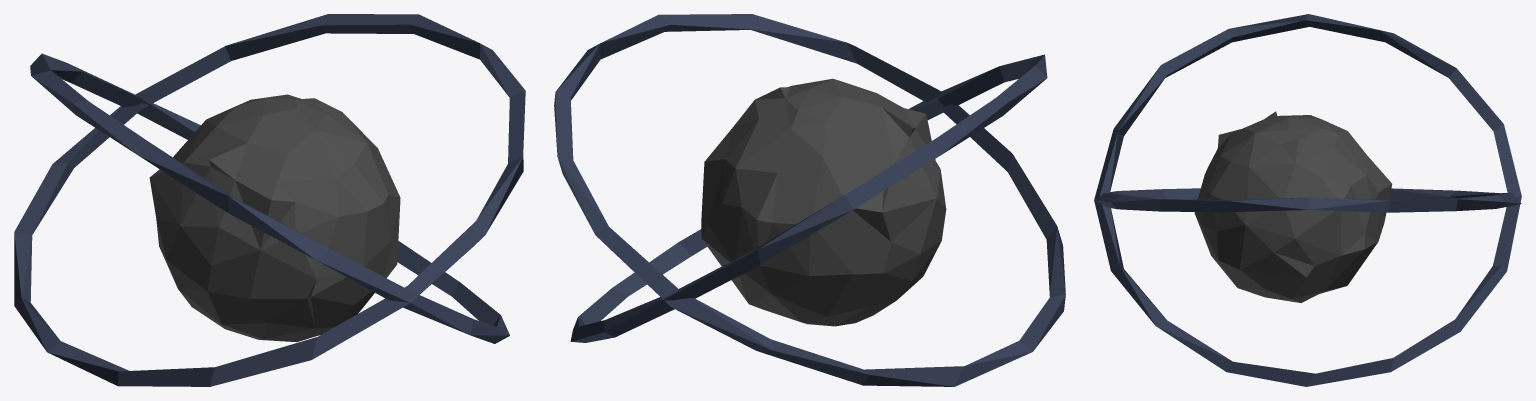
The model's file is Planet2.fbx.
The picture shows the model from 3 angles, left to right: view 1: azimuth 30°, elevation 25°; view 2: azimuth 150°, elevation 25°; view 3: azimuth 270°, elevation 25°; orthographic projection. The views are drawn at different scales.
Parts seen in each view (by area): view 1: Planet2; view 2: Planet2; view 3: Planet2.
Part boxes in pixels (box(x1,y1,x2,y2)): Planet2: box(14, 14, 525, 386); Planet2: box(554, 14, 1065, 386); Planet2: box(1094, 14, 1521, 386).
Bounding box in the file's own units: 22.74 × 14.41 × 24.71.
